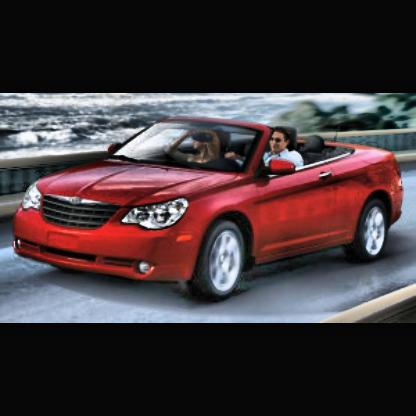Chrysler Sebring Convertible 2010: (14, 115, 409, 309)
